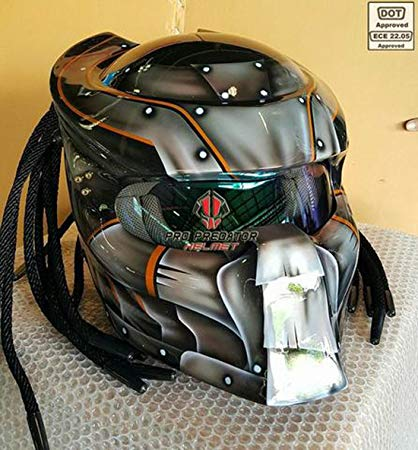with_helmet: (45, 25, 367, 411)
